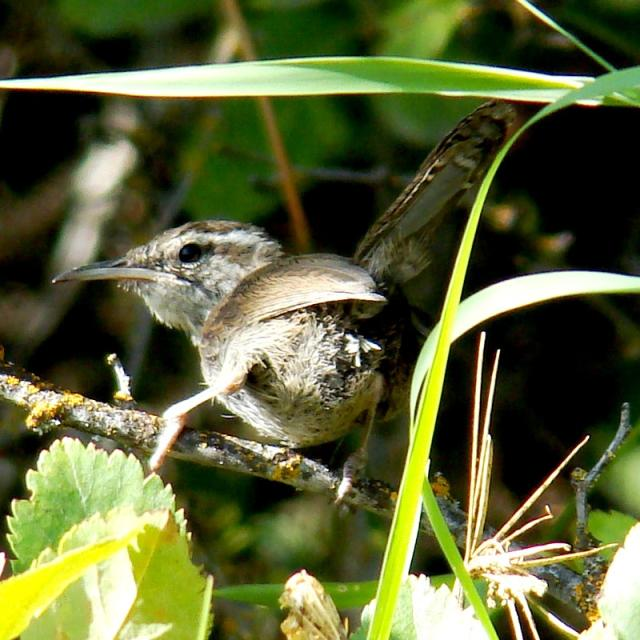bird: (39, 214, 393, 511)
